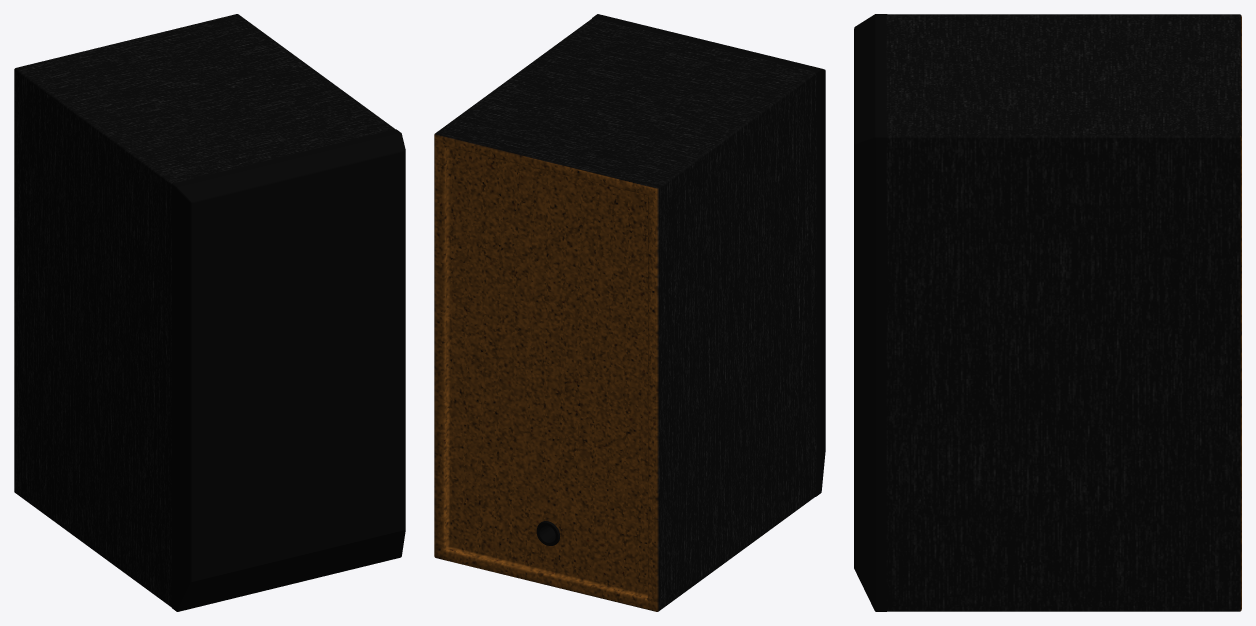
File: SideKick.fbx
The picture shows the model from 3 angles, left to right: view 1: azimuth 30°, elevation 25°; view 2: azimuth 150°, elevation 25°; view 3: azimuth 270°, elevation 25°; orthographic projection. The views are drawn at different scales.
Parts seen in each view (by area): view 1: SideKick; view 2: SideKick; view 3: SideKick.
Part boxes in pixels (<box>): SideKick: <box>14,14,405,611</box>; SideKick: <box>434,14,825,611</box>; SideKick: <box>854,14,1241,611</box>.
Size of the model in its own units: 27.06 by 36.07 by 48.89.
